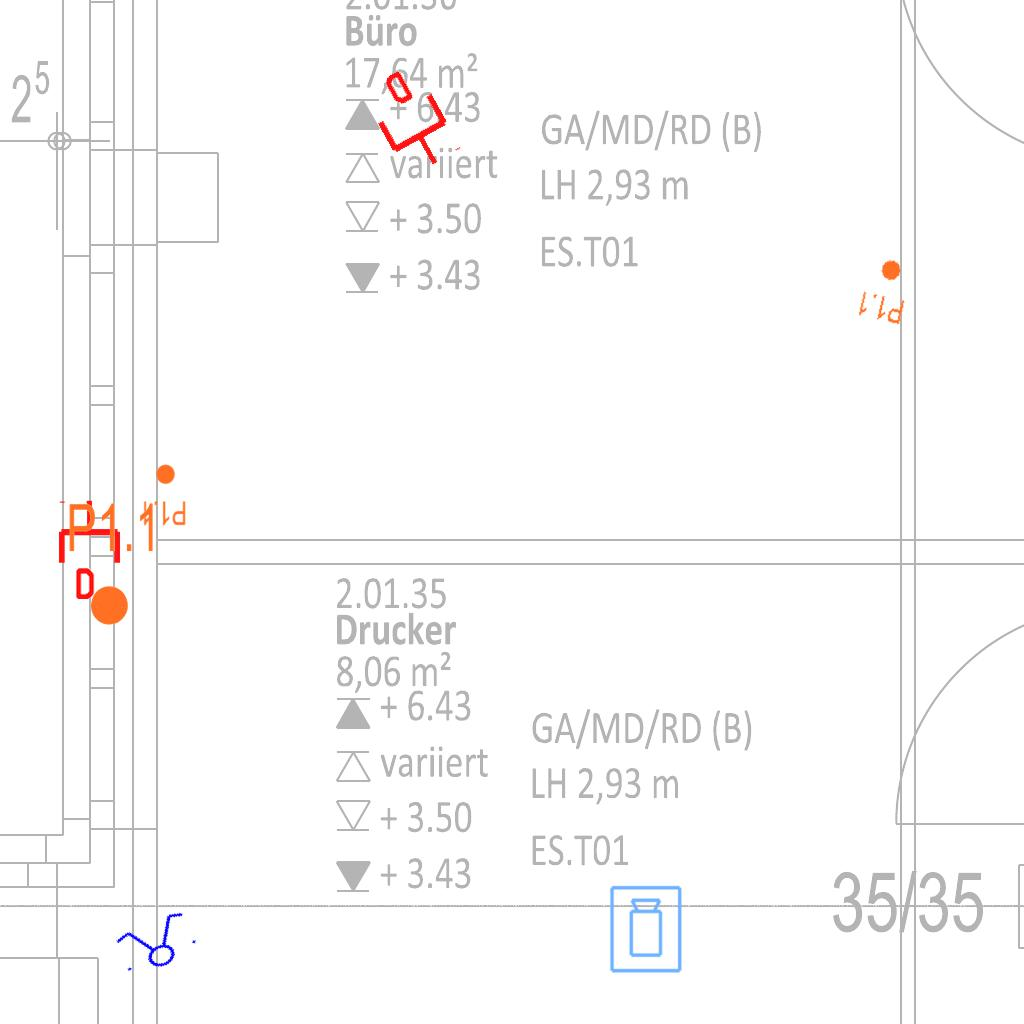Datenanschluss_einfach: (357, 60, 466, 182), (55, 499, 124, 599)
Downlight_LED_Einbauleuchten_Flur: (66, 500, 159, 628), (855, 253, 915, 327), (141, 463, 187, 527)
KFO_Kamera_mit_Festobjektiv: (608, 884, 685, 975)
Serienschalter: (107, 905, 205, 983)
